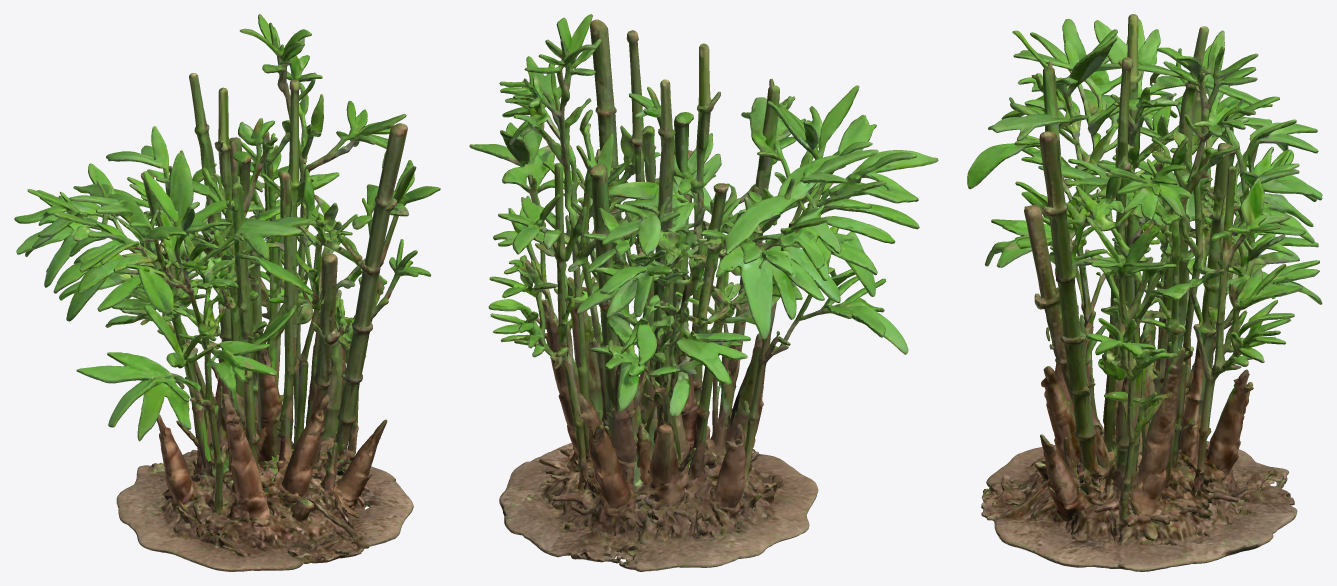
File: bamboo-shoot.glb
3 views of the same model, side by side, from view 1: azimuth 30°, elevation 25°; view 2: azimuth 150°, elevation 25°; view 3: azimuth 270°, elevation 25° (orthographic). The views are drawn at different scales.
Parts seen in each view (by area): view 1: geometry_0; view 2: geometry_0; view 3: geometry_0.
Part boxes in pixels (x1=…): geometry_0: x1=14, y1=14, x2=440, y2=571; geometry_0: x1=469, y1=14, x2=938, y2=571; geometry_0: x1=967, y1=14, x2=1322, y2=571.
Size of the model in its own units: 0.5225 by 0.6 by 0.3996.
Materials: 1 (1 with a texture image).
